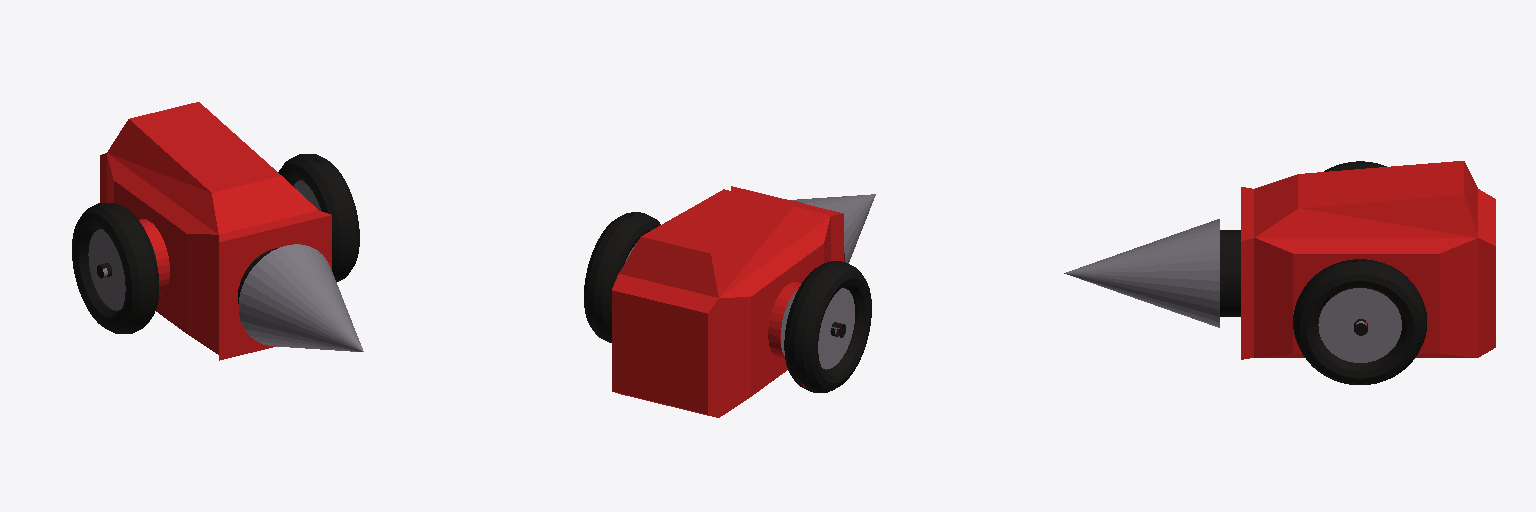
3 renders of one model, left to right at view 1: azimuth 30°, elevation 25°; view 2: azimuth 150°, elevation 25°; view 3: azimuth 270°, elevation 25°, orthographic.
Parts seen in each view (by area): view 1: 円柱.002; view 2: 円柱.002; view 3: 円柱.002.
Part boxes in pixels (left/top/right/bottom): 円柱.002: left=72, top=102, right=363, bottom=360; 円柱.002: left=584, top=186, right=875, bottom=417; 円柱.002: left=1064, top=161, right=1495, bottom=384.
Size of the model in its own units: 3.7 by 2.39 by 5.98.
Materials: 1 (1 with a texture image).